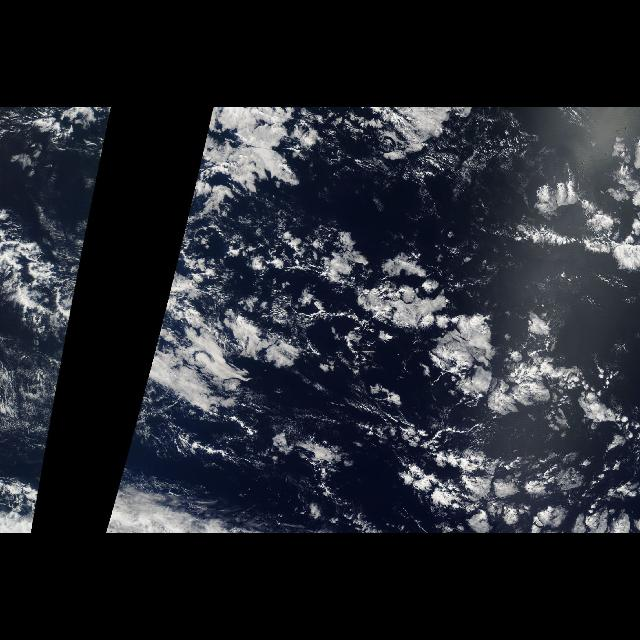Flower: (256, 165, 640, 533)
